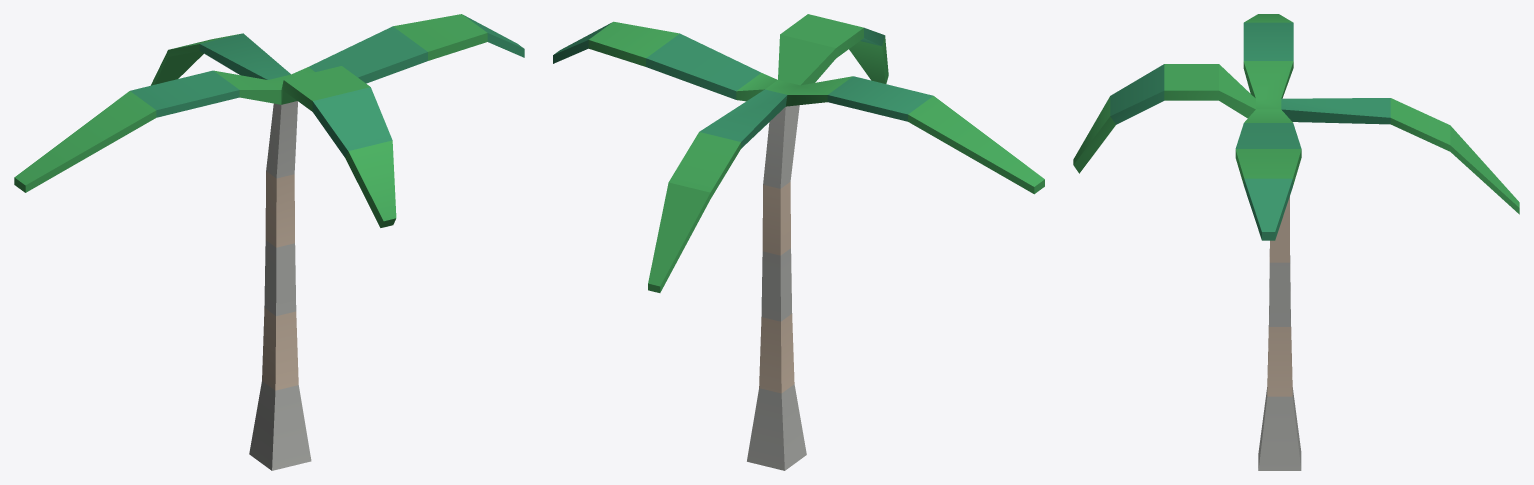
The model's file is beach_palmtree.fbx.
3 renders of one model, left to right at view 1: azimuth 30°, elevation 25°; view 2: azimuth 150°, elevation 25°; view 3: azimuth 270°, elevation 25°, orthographic. The views are drawn at different scales.
Visible parts, largest first — view 1: pCube16; view 2: pCube16; view 3: pCube16.
Boxes of the visible parts, <box> form: pCube16: <box>14,14,524,470</box>; pCube16: <box>553,14,1044,470</box>; pCube16: <box>1073,14,1519,470</box>.
Size of the model in its own units: 5.04 by 3.93 by 4.13.
